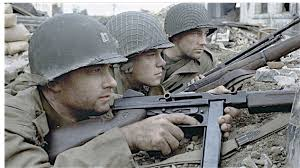Gun: (123, 96, 295, 160), (193, 31, 288, 84)
